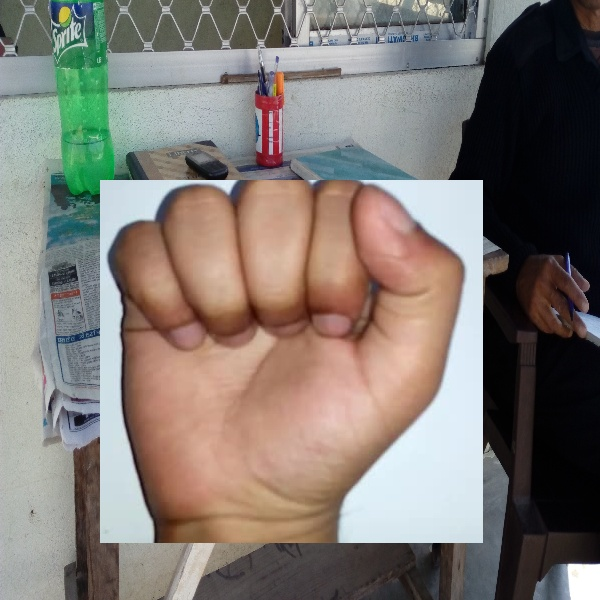F: (100, 180, 483, 543)
